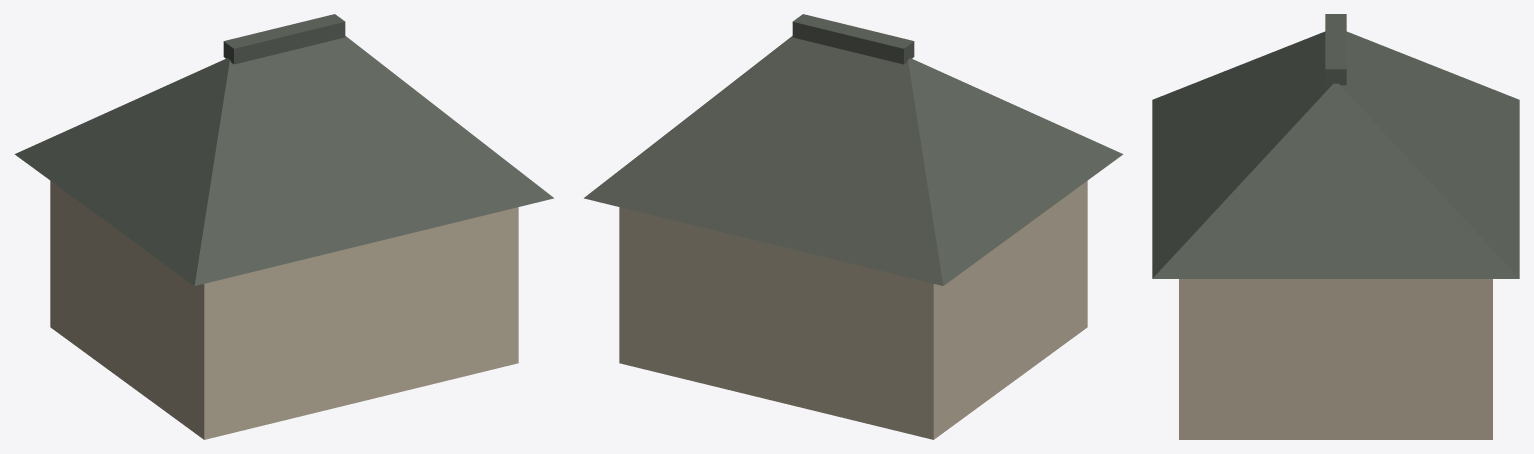
Rendered from cottage_c.glb.
The picture shows the model from 3 angles, left to right: view 1: azimuth 30°, elevation 25°; view 2: azimuth 150°, elevation 25°; view 3: azimuth 270°, elevation 25°; orthographic projection.
Parts seen in each view (by area): view 1: cottage_c; view 2: cottage_c; view 3: cottage_c.
Part boxes in pixels (x1,y1,x2,y2): cottage_c: [14, 14, 553, 439]; cottage_c: [584, 14, 1123, 439]; cottage_c: [1152, 14, 1519, 439].
Bounding box in the file's own units: 6 × 5 × 5.2.
